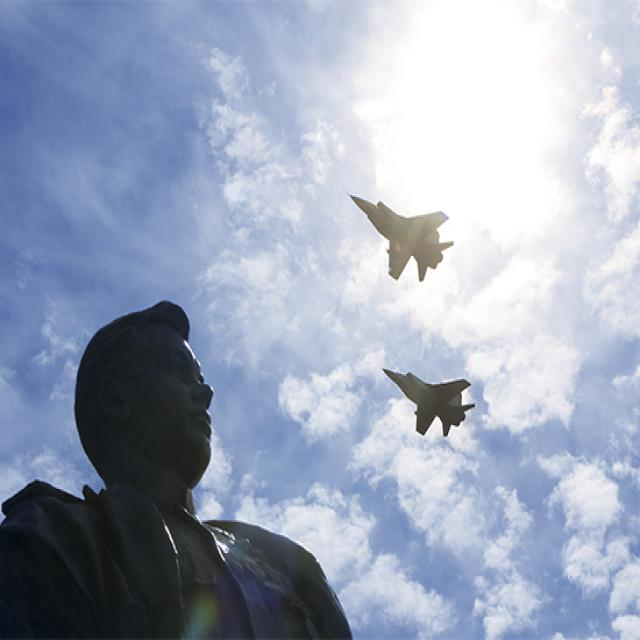MIL_Plane: (343, 190, 455, 282), (380, 368, 476, 438)
